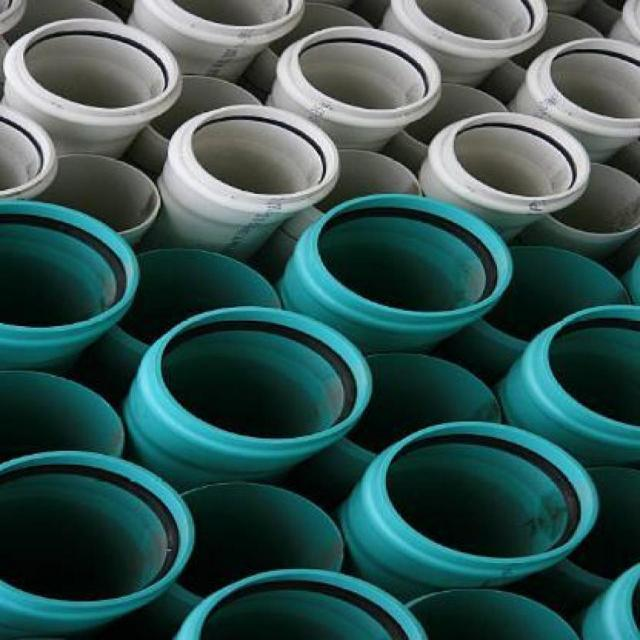pipe: (0, 451, 194, 621), (378, 421, 598, 565), (155, 307, 372, 444), (311, 193, 513, 330), (148, 481, 344, 605), (0, 199, 138, 333), (111, 248, 281, 353), (181, 568, 429, 639), (343, 353, 501, 461), (474, 246, 631, 351), (279, 26, 439, 128), (431, 113, 590, 214), (19, 19, 179, 113), (184, 105, 340, 200), (532, 305, 639, 443), (0, 369, 124, 464), (22, 154, 161, 235), (529, 38, 640, 138), (391, 0, 546, 58), (145, 71, 264, 141), (309, 146, 422, 214), (546, 162, 640, 236), (402, 80, 510, 142)
